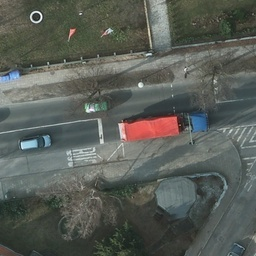car: (82, 97, 114, 114), (18, 134, 50, 151)
